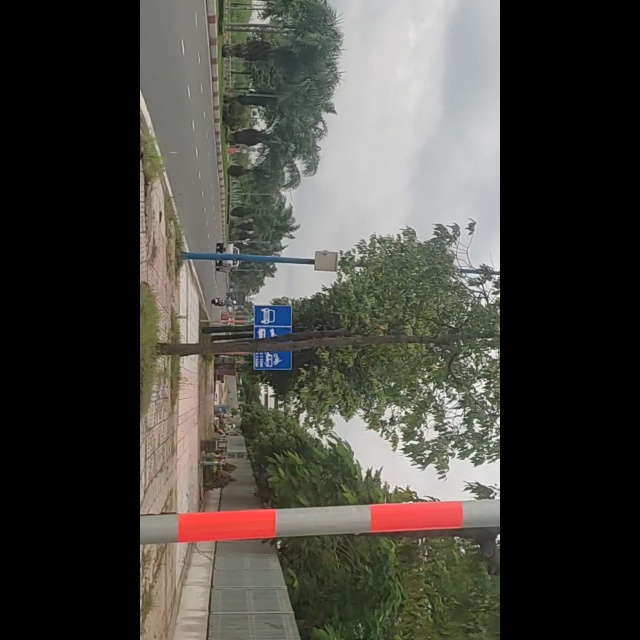bien_chi_dan: (194, 303, 275, 373)
